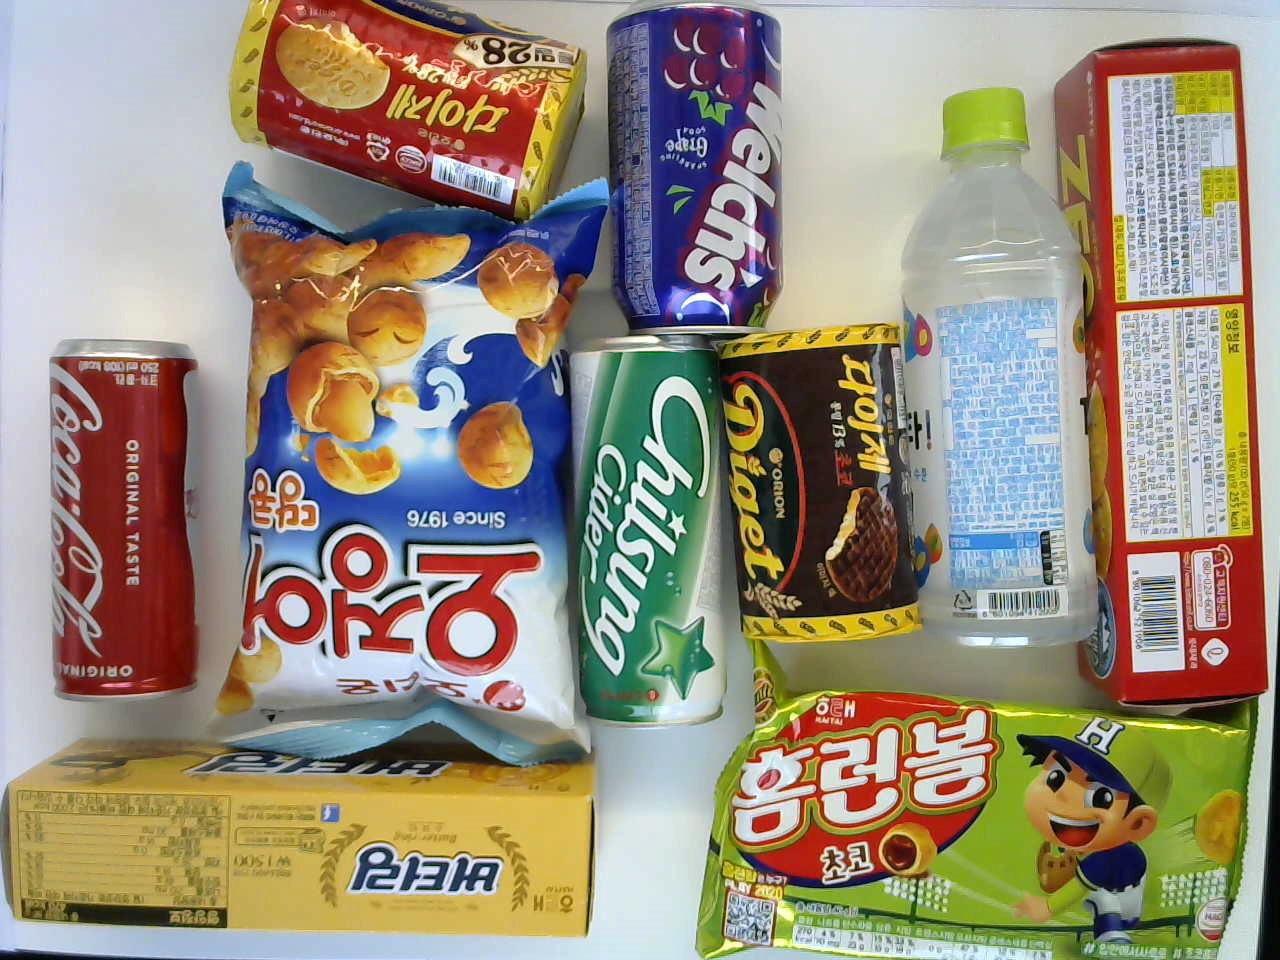buttering: (4, 736, 601, 932)
cidar: (567, 334, 730, 729)
coke: (45, 339, 201, 697)
diget_choco: (712, 323, 920, 635)
diget_ori: (225, 0, 586, 215)
homerunball: (695, 641, 1262, 956)
squid_peanut: (205, 157, 611, 764)
toreta: (901, 88, 1097, 644)
welchs: (606, 0, 787, 332)
zec: (1050, 35, 1269, 698)
